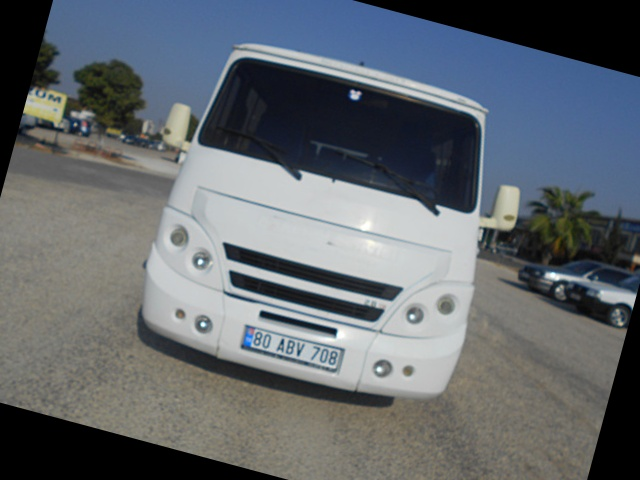plaka: (243, 325, 344, 369)
